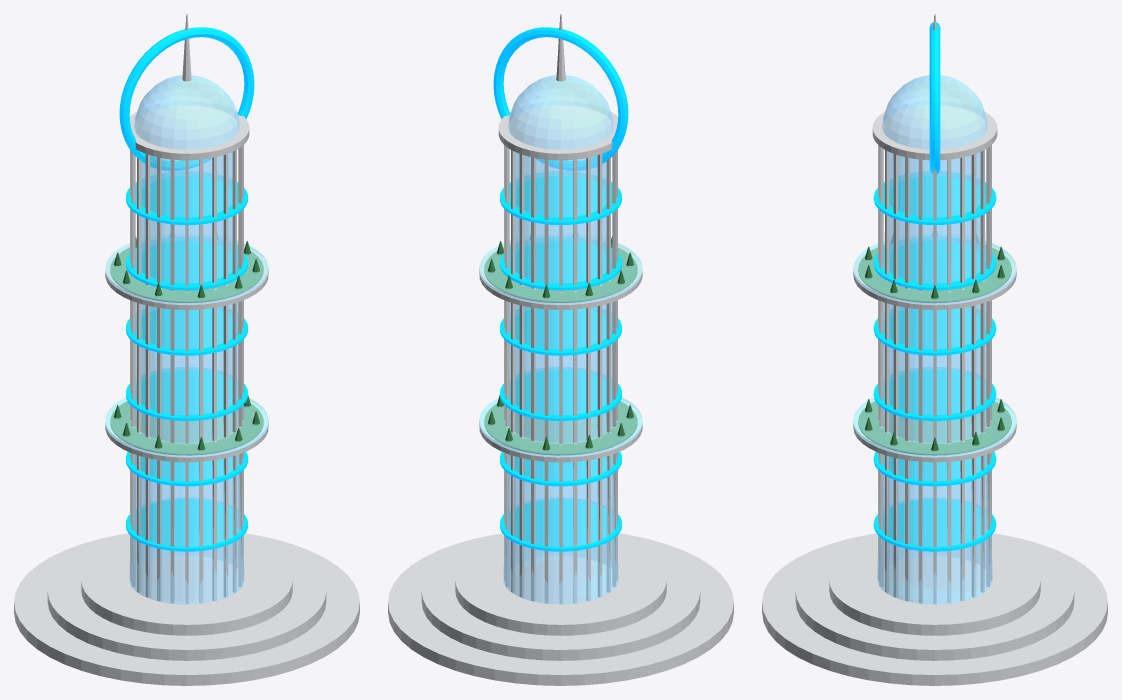
Rendered from shaddai_landmark_exchange_v01.glb.
The picture shows the model from 3 angles, left to right: view 1: azimuth 30°, elevation 25°; view 2: azimuth 150°, elevation 25°; view 3: azimuth 270°, elevation 25°; orthographic projection.
Visible parts, largest first — view 1: landmark_exchange; view 2: landmark_exchange; view 3: landmark_exchange.
Part boxes in pixels (box(x1,y1,x2,y2)): landmark_exchange: box(14, 14, 359, 685); landmark_exchange: box(388, 14, 733, 685); landmark_exchange: box(762, 14, 1107, 685).
Bounding box in the file's own units: 144 × 275 × 144.
